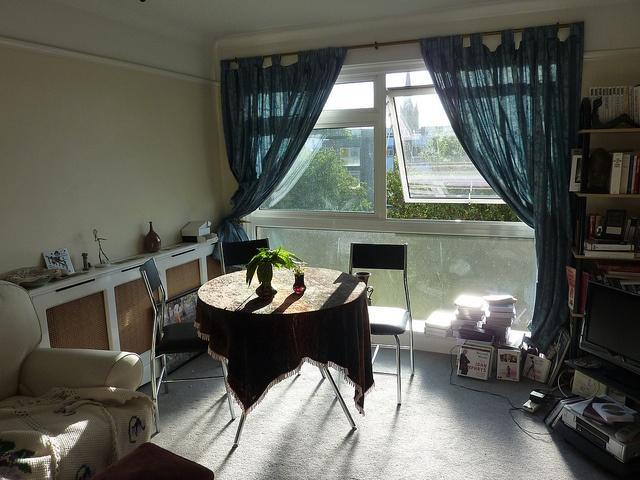AIO PC-Monitor-TV: (576, 279, 639, 376)
Kursi: (138, 256, 235, 432), (347, 240, 413, 408)
